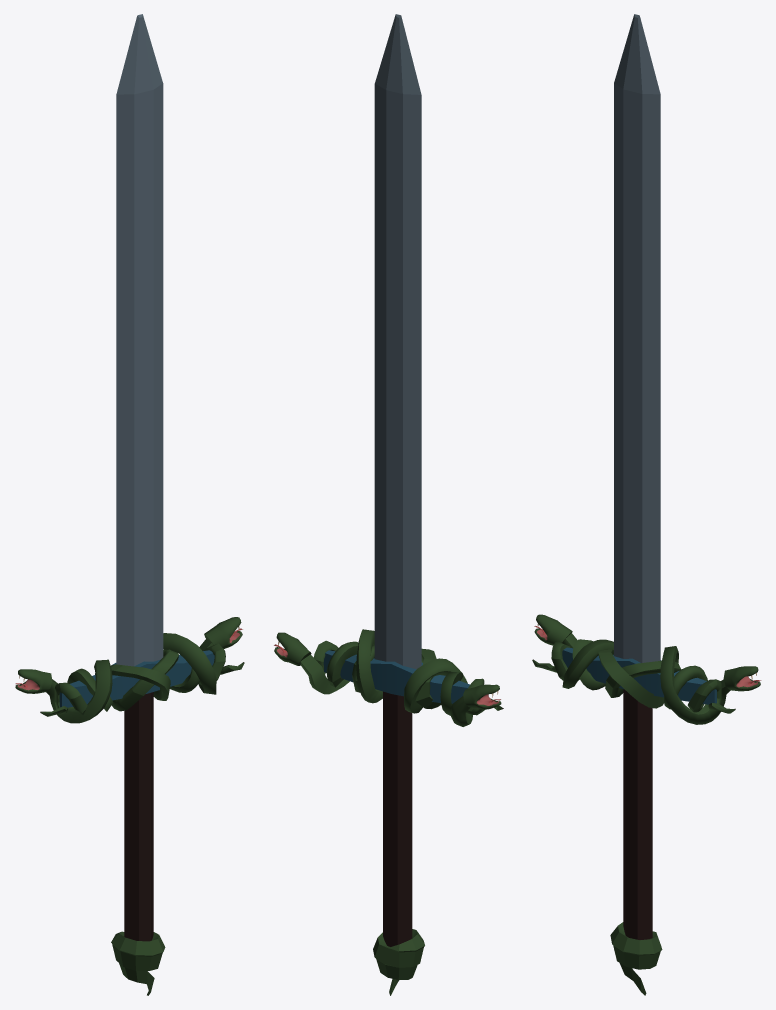
File: SwordLP.fbx
The picture shows the model from 3 angles, left to right: view 1: azimuth 30°, elevation 25°; view 2: azimuth 150°, elevation 25°; view 3: azimuth 330°, elevation 25°; orthographic projection.
Parts seen in each view (by area): view 1: Sword_LP; view 2: Sword_LP; view 3: Sword_LP.
Part boxes in pixels (x1,y1,x2,y2): Sword_LP: (15, 14, 244, 995); Sword_LP: (274, 14, 503, 995); Sword_LP: (532, 14, 761, 995).
Bounding box in the file's own units: 0.278 × 1.15 × 0.0815.
